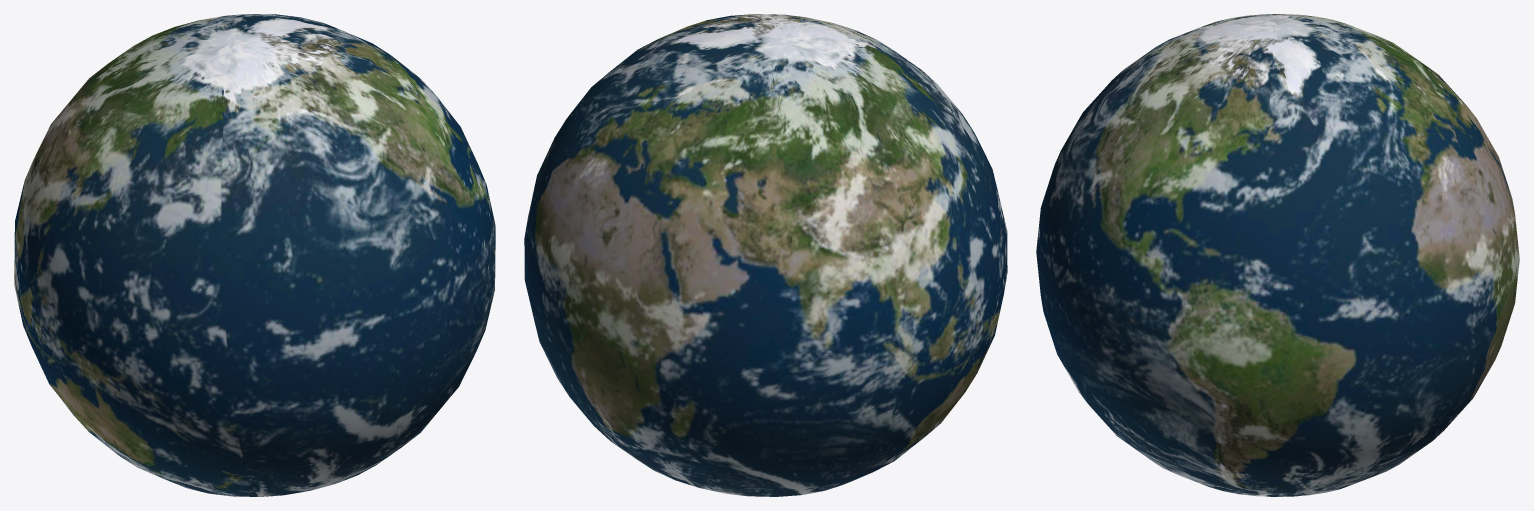
Rendered from earth.fbx.
3 renders of one model, left to right at view 1: azimuth 30°, elevation 25°; view 2: azimuth 150°, elevation 25°; view 3: azimuth 270°, elevation 25°, orthographic.
Parts seen in each view (by area): view 1: earth; view 2: earth; view 3: earth.
Boxes of the visible parts, x1,y1,x2,y2 form: earth: (14,14,495,496); earth: (524,14,1007,496); earth: (1036,14,1519,496).
Bounding box in the file's own units: 10.45 × 10.46 × 10.49.
Materials: 1 (1 with a texture image).
